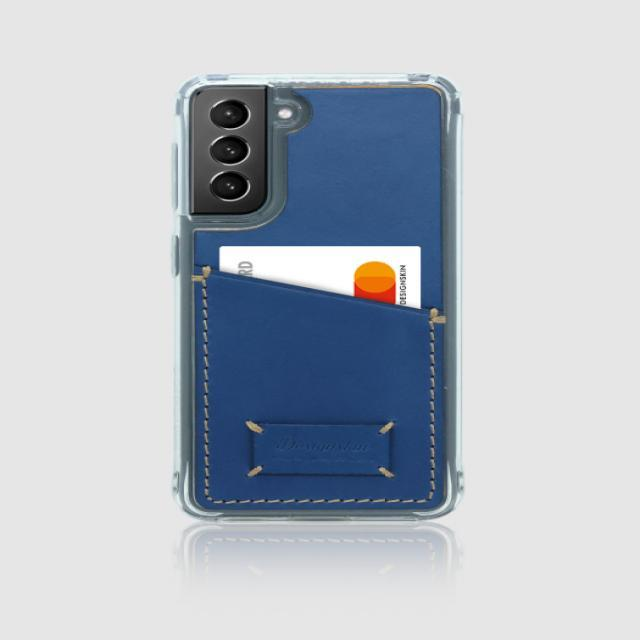phone: (172, 74, 464, 522)
